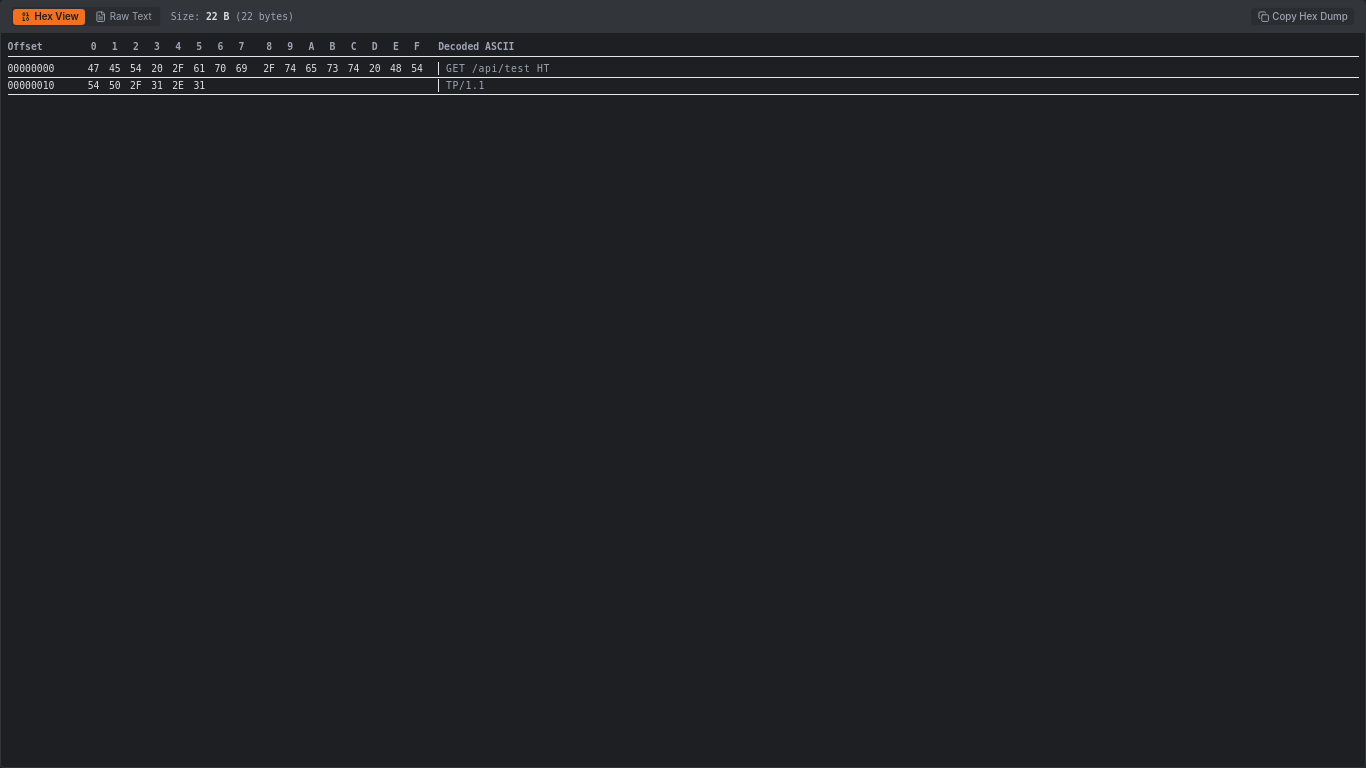
Test: RawByteInspector Component › renders hex view and allows switching to raw text
Expected: the button "Hex View" is shown, [13, 8, 85, 25]
Expected: the text "00000000" is shown, [8, 63, 54, 74]
Note: Switch to raw text mode
Click the button "Raw Text".
click(123, 17)  # box [88, 8, 158, 25]
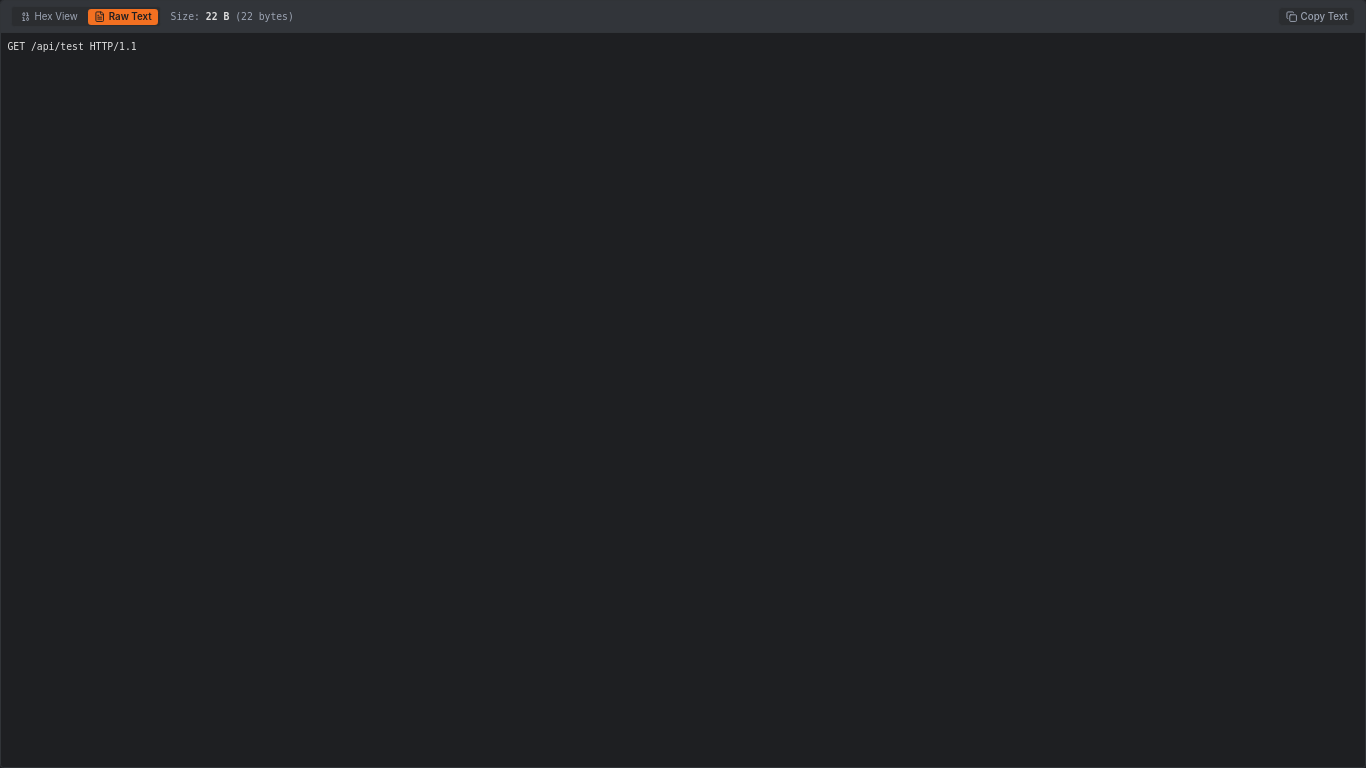
Expected: the text "GET /api/test HTTP/1.1" is shown, [8, 41, 137, 52]
